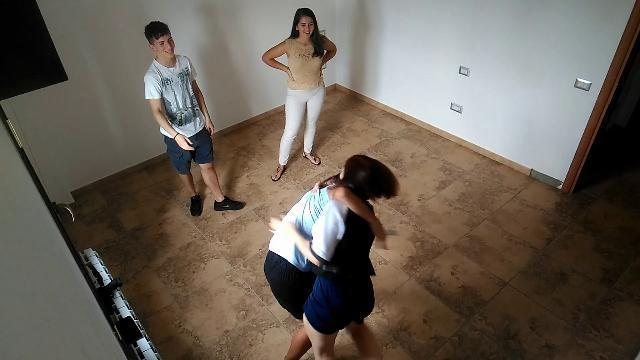non-violence: (140, 19, 248, 219), (260, 7, 338, 184)
violence: (262, 153, 401, 359)
